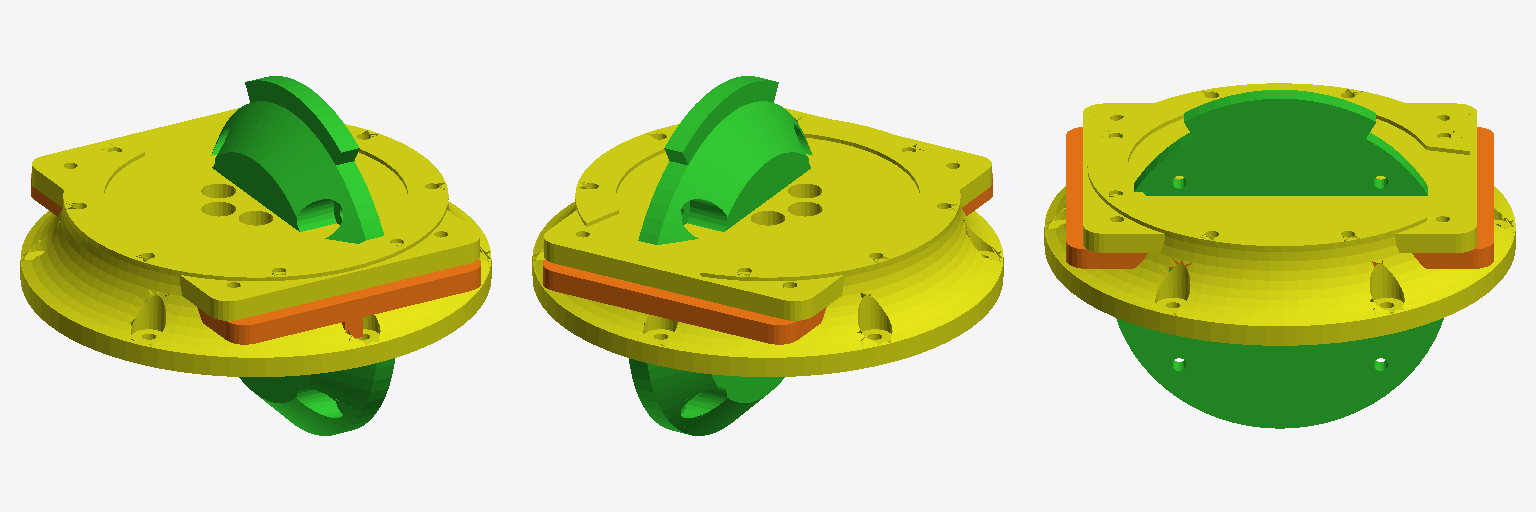
The robot description file, URDF, robot "my_robot":
<?xml version="1.0" ?>
<!-- =================================================================================== -->
<!-- |    This document was autogenerated by xacro from [local-path]/ros2_ws/install/my_robot_ros2_control/share/my_robot_ros2_control/description/urdf/my_robot.description.urdf.xacro | -->
<!-- |    EDITING THIS FILE BY HAND IS NOT RECOMMENDED                                 | -->
<!-- =================================================================================== -->
<robot name="my_robot">
  <!-- Materials -->
  <material name="robot_black">
    <color rgba="0.2 0.2 0.2 1"/>
  </material>
  <material name="robot_white">
    <color rgba="0.9 0.9 0.9 1"/>
  </material>
  <material name="robot_red">
    <color rgba="0.8 0.2 0.2 1"/>
  </material>
  <material name="robot_blue">
    <color rgba="0.2 0.4 0.8 1"/>
  </material>
  <material name="robot_green">
    <color rgba="0.2 0.8 0.2 1"/>
  </material>
  <material name="robot_yellow">
    <color rgba="0.9 0.9 0.1 1"/>
  </material>
  <material name="robot_orange">
    <color rgba="1.0 0.5 0.1 1"/>
  </material>
  <material name="robot_purple">
    <color rgba="0.6 0.2 0.8 1"/>
  </material>
  <!-- World Link -->
  <link name="world"/>
  <!-- Base Joint (connects world to robot) -->
  <joint name="base_joint" type="fixed">
    <origin rpy="0 0 0" xyz="0 0 0"/>
    <parent link="world"/>
    <child link="base_link"/>
  </joint>
  <link name="base_link">
    <collision name="mesh_base_link_collision">
      <origin rpy="0.0 0.0 0.0" xyz="0 0 0"/>
      <geometry>
        <mesh filename="package://my_robot_ros2_control/description/urdf/meshes/mesh_base_link.stl" scale="0.001 0.001 0.001"/>
        <!-- Add other geometry types as needed -->
      </geometry>
    </collision>
    <visual name="mesh_base_link">
      <material name="robot_black"/>
      <origin rpy="0.0 0.0 0.0" xyz="0 0 0"/>
      <geometry>
        <mesh filename="package://my_robot_ros2_control/description/urdf/meshes/mesh_base_link.stl" scale="0.001 0.001 0.001"/>
      </geometry>
    </visual>
  </link>
  <joint name="link1_motor_joint" type="fixed">
    <origin rpy="0 0 0" xyz="0 0 0.0263"/>
    <parent link="base_link"/>
    <child link="link1_motor"/>
  </joint>
  <link name="link1_motor">
    <collision name="mesh_link1_motor_collision">
      <origin rpy="0.0 0.0 0.0" xyz="0 0 -0.0263"/>
      <geometry>
        <mesh filename="package://my_robot_ros2_control/description/urdf/meshes/mesh_link1_motor.stl" scale="0.001 0.001 0.001"/>
        <!-- Add other geometry types as needed -->
      </geometry>
    </collision>
    <visual name="mesh_link1_motor">
      <material name="robot_red"/>
      <origin rpy="0.0 0.0 0.0" xyz="0 0 -0.0263"/>
      <geometry>
        <mesh filename="package://my_robot_ros2_control/description/urdf/meshes/mesh_link1_motor.stl" scale="0.001 0.001 0.001"/>
      </geometry>
    </visual>
  </link>
  <joint name="link1_1_joint" type="revolute">
    <limit effort="0.0" lower="-3.6651914291883334" upper="0.5235987755983333" velocity="2.408554367752333"/>
    <origin rpy="0 0 0" xyz="0 0 0.0507"/>
    <parent link="link1_motor"/>
    <child link="link1_1"/>
    <axis xyz="0 0 1"/>
  </joint>
  <link name="link1_1">
    <collision name="mesh_link1_1_collision">
      <origin rpy="0.0 0.0 0.0" xyz="0 0 -0.077"/>
      <geometry>
        <mesh filename="package://my_robot_ros2_control/description/urdf/meshes/mesh_link1_1.stl" scale="0.001 0.001 0.001"/>
        <!-- Add other geometry types as needed -->
      </geometry>
    </collision>
    <visual name="mesh_link1_1">
      <material name="robot_blue"/>
      <origin rpy="0.0 0.0 0.0" xyz="0 0 -0.077"/>
      <geometry>
        <mesh filename="package://my_robot_ros2_control/description/urdf/meshes/mesh_link1_1.stl" scale="0.001 0.001 0.001"/>
      </geometry>
    </visual>
  </link>
  <joint name="link1_2_joint" type="fixed">
    <origin rpy="0 0 0" xyz="0 0 0.015"/>
    <parent link="link1_1"/>
    <child link="link1_2"/>
  </joint>
  <link name="link1_2">
    <collision name="mesh_link1_2_collision">
      <origin rpy="0.0 0.0 0.0" xyz="0 0 -0.092"/>
      <geometry>
        <mesh filename="package://my_robot_ros2_control/description/urdf/meshes/mesh_link1_2.stl" scale="0.001 0.001 0.001"/>
        <!-- Add other geometry types as needed -->
      </geometry>
    </collision>
    <visual name="mesh_link1_2">
      <material name="robot_white"/>
      <origin rpy="0.0 0.0 0.0" xyz="0 0 -0.092"/>
      <geometry>
        <mesh filename="package://my_robot_ros2_control/description/urdf/meshes/mesh_link1_2.stl" scale="0.001 0.001 0.001"/>
      </geometry>
    </visual>
  </link>
  <joint name="link2_motor_joint" type="fixed">
    <origin rpy="0 0 0" xyz="0 0 0.059"/>
    <parent link="link1_2"/>
    <child link="link2_motor"/>
  </joint>
  <link name="link2_motor">
    <collision name="mesh_link2_motor_collision">
      <origin rpy="0.0 0.0 0.0" xyz="0 0 -0.151"/>
      <geometry>
        <mesh filename="package://my_robot_ros2_control/description/urdf/meshes/mesh_link2_motor.stl" scale="0.001 0.001 0.001"/>
        <!-- Add other geometry types as needed -->
      </geometry>
    </collision>
    <visual name="mesh_link2_motor">
      <material name="robot_red"/>
      <origin rpy="0.0 0.0 0.0" xyz="0 0 -0.151"/>
      <geometry>
        <mesh filename="package://my_robot_ros2_control/description/urdf/meshes/mesh_link2_motor.stl" scale="0.001 0.001 0.001"/>
      </geometry>
    </visual>
  </link>
  <joint name="link2_1_joint" type="revolute">
    <limit effort="0.0" lower="-1.570796326795" upper="1.570796326795" velocity="2.408554367752333"/>
    <origin rpy="0 0 0" xyz="0.009 0 0"/>
    <parent link="link2_motor"/>
    <child link="link2_1"/>
    <axis xyz="1 0 0"/>
  </joint>
  <link name="link2_1">
    <collision name="mesh_link2_1_collision">
      <origin rpy="0.0 0.0 0.0" xyz="-0.009 0 -0.151"/>
      <geometry>
        <mesh filename="package://my_robot_ros2_control/description/urdf/meshes/mesh_link2_1.stl" scale="0.001 0.001 0.001"/>
        <!-- Add other geometry types as needed -->
      </geometry>
    </collision>
    <visual name="mesh_link2_1">
      <material name="robot_green"/>
      <origin rpy="0.0 0.0 0.0" xyz="-0.009 0 -0.151"/>
      <geometry>
        <mesh filename="package://my_robot_ros2_control/description/urdf/meshes/mesh_link2_1.stl" scale="0.001 0.001 0.001"/>
      </geometry>
    </visual>
  </link>
  <joint name="link2_2_joint" type="fixed">
    <origin rpy="0 0 0" xyz="0.015 0 0"/>
    <parent link="link2_1"/>
    <child link="link2_2"/>
  </joint>
  <link name="link2_2">
    <collision name="mesh_link2_2_collision">
      <origin rpy="0.0 0.0 0.0" xyz="-0.024 0 -0.151"/>
      <geometry>
        <mesh filename="package://my_robot_ros2_control/description/urdf/meshes/mesh_link2_PLA.stl" scale="0.001 0.001 0.001"/>
        <!-- Add other geometry types as needed -->
      </geometry>
    </collision>
    <visual name="mesh_link2_2">
      <material name="robot_white"/>
      <origin rpy="0.0 0.0 0.0" xyz="-0.024 0 -0.151"/>
      <geometry>
        <mesh filename="package://my_robot_ros2_control/description/urdf/meshes/mesh_link2_PLA.stl" scale="0.001 0.001 0.001"/>
      </geometry>
    </visual>
  </link>
  <joint name="link2_3_joint" type="fixed">
    <origin rpy="0 0 0" xyz="0.075 0 0.13"/>
    <parent link="link2_2"/>
    <child link="link2_3"/>
  </joint>
  <link name="link2_3">
    <collision name="mesh_link2_3_collision">
      <origin rpy="0.0 0.0 0.0" xyz="-0.099 0 -0.281"/>
      <geometry>
        <mesh filename="package://my_robot_ros2_control/description/urdf/meshes/mesh_link2_7.stl" scale="0.001 0.001 0.001"/>
        <!-- Add other geometry types as needed -->
      </geometry>
    </collision>
    <visual name="mesh_link2_3">
      <material name="robot_yellow"/>
      <origin rpy="0.0 0.0 0.0" xyz="-0.099 0 -0.281"/>
      <geometry>
        <mesh filename="package://my_robot_ros2_control/description/urdf/meshes/mesh_link2_7.stl" scale="0.001 0.001 0.001"/>
      </geometry>
    </visual>
  </link>
  <joint name="link3_motor_joint" type="fixed">
    <origin rpy="0 0 0" xyz="0 0 0.021"/>
    <parent link="link2_3"/>
    <child link="link3_motor"/>
  </joint>
  <link name="link3_motor">
    <collision name="mesh_link3_motor_collision">
      <origin rpy="0.0 0.0 0.0" xyz="-0.099 0 -0.302"/>
      <geometry>
        <mesh filename="package://my_robot_ros2_control/description/urdf/meshes/mesh_link3_motor.stl" scale="0.001 0.001 0.001"/>
        <!-- Add other geometry types as needed -->
      </geometry>
    </collision>
    <visual name="mesh_link3_motor">
      <material name="robot_red"/>
      <origin rpy="0.0 0.0 0.0" xyz="-0.099 0 -0.302"/>
      <geometry>
        <mesh filename="package://my_robot_ros2_control/description/urdf/meshes/mesh_link3_motor.stl" scale="0.001 0.001 0.001"/>
      </geometry>
    </visual>
  </link>
  <joint name="link3_1_joint" type="revolute">
    <limit effort="0.0" lower="-4.0142572795872224" upper="1.0471975511966667" velocity="15.498523757710668"/>
    <origin rpy="0 0 0" xyz="0 0 0.03905"/>
    <parent link="link3_motor"/>
    <child link="link3_1"/>
    <axis xyz="0 0 1"/>
  </joint>
  <link name="link3_1">
    <collision name="mesh_link3_1_collision">
      <origin rpy="0.0 0.0 0.0" xyz="-0.099 0 -0.34105"/>
      <geometry>
        <mesh filename="package://my_robot_ros2_control/description/urdf/meshes/mesh_link3_1.stl" scale="0.001 0.001 0.001"/>
        <!-- Add other geometry types as needed -->
      </geometry>
    </collision>
    <visual name="mesh_link3_1">
      <material name="robot_orange"/>
      <origin rpy="0.0 0.0 0.0" xyz="-0.099 0 -0.34105"/>
      <geometry>
        <mesh filename="package://my_robot_ros2_control/description/urdf/meshes/mesh_link3_1.stl" scale="0.001 0.001 0.001"/>
      </geometry>
    </visual>
  </link>
  <joint name="link3_2_joint" type="fixed">
    <origin rpy="0 0 0" xyz="0 0 0.015"/>
    <parent link="link3_1"/>
    <child link="link3_2"/>
  </joint>
  <link name="link3_2">
    <collision name="mesh_link3_2_collision">
      <origin rpy="0.0 0.0 0.0" xyz="-0.099 0 -0.35605"/>
      <geometry>
        <mesh filename="package://my_robot_ros2_control/description/urdf/meshes/mesh_link3_2.stl" scale="0.001 0.001 0.001"/>
        <!-- Add other geometry types as needed -->
      </geometry>
    </collision>
    <visual name="mesh_link3_2">
      <material name="robot_purple"/>
      <origin rpy="0.0 0.0 0.0" xyz="-0.099 0 -0.35605"/>
      <geometry>
        <mesh filename="package://my_robot_ros2_control/description/urdf/meshes/mesh_link3_2.stl" scale="0.001 0.001 0.001"/>
      </geometry>
    </visual>
  </link>
  <joint name="link4_motor_joint" type="fixed">
    <origin rpy="0 0 0" xyz="0.004 0 0.0546"/>
    <parent link="link3_2"/>
    <child link="link4_motor"/>
  </joint>
  <link name="link4_motor">
    <collision name="mesh_link4_motor_collision">
      <origin rpy="0.0 0.0 0.0" xyz="-0.103 0 -0.41065"/>
      <geometry>
        <mesh filename="package://my_robot_ros2_control/description/urdf/meshes/mesh_link4_motor.stl" scale="0.001 0.001 0.001"/>
        <!-- Add other geometry types as needed -->
      </geometry>
    </collision>
    <visual name="mesh_link4_motor">
      <material name="robot_red"/>
      <origin rpy="0.0 0.0 0.0" xyz="-0.103 0 -0.41065"/>
      <geometry>
        <mesh filename="package://my_robot_ros2_control/description/urdf/meshes/mesh_link4_motor.stl" scale="0.001 0.001 0.001"/>
      </geometry>
    </visual>
  </link>
  <joint name="link4_1_joint" type="revolute">
    <limit effort="0.0" lower="-1.6580627893947222" upper="1.6580627893947222" velocity="15.498523757710668"/>
    <origin rpy="0 0 0" xyz="-0.0065 0 0"/>
    <parent link="link4_motor"/>
    <child link="link4_1"/>
    <axis xyz="-1 0 0"/>
  </joint>
  <link name="link4_1">
    <collision name="mesh_link4_1_collision">
      <origin rpy="0.0 0.0 0.0" xyz="-0.0965 0 -0.41065"/>
      <geometry>
        <mesh filename="package://my_robot_ros2_control/description/urdf/meshes/mesh_link4_1.stl" scale="0.001 0.001 0.001"/>
        <!-- Add other geometry types as needed -->
      </geometry>
    </collision>
    <visual name="mesh_link4_1">
      <material name="robot_blue"/>
      <origin rpy="0.0 0.0 0.0" xyz="-0.0965 0 -0.41065"/>
      <geometry>
        <mesh filename="package://my_robot_ros2_control/description/urdf/meshes/mesh_link4_1.stl" scale="0.001 0.001 0.001"/>
      </geometry>
    </visual>
  </link>
  <joint name="link4_2_joint" type="fixed">
    <origin rpy="0 0 0" xyz="-0.015 0 0"/>
    <parent link="link4_1"/>
    <child link="link4_2"/>
  </joint>
  <link name="link4_2">
    <collision name="mesh_link4_2_collision">
      <origin rpy="0.0 0.0 0.0" xyz="-0.0815 0 -0.41065"/>
      <geometry>
        <mesh filename="package://my_robot_ros2_control/description/urdf/meshes/mesh_link4_PLA.stl" scale="0.001 0.001 0.001"/>
        <!-- Add other geometry types as needed -->
      </geometry>
    </collision>
    <visual name="mesh_link4_2">
      <material name="robot_white"/>
      <origin rpy="0.0 0.0 0.0" xyz="-0.0815 0 -0.41065"/>
      <geometry>
        <mesh filename="package://my_robot_ros2_control/description/urdf/meshes/mesh_link4_PLA.stl" scale="0.001 0.001 0.001"/>
      </geometry>
    </visual>
  </link>
  <joint name="link4_3_joint" type="fixed">
    <origin rpy="0 0 0" xyz="-0.075 0 0.1"/>
    <parent link="link4_2"/>
    <child link="link4_3"/>
  </joint>
  <link name="link4_3">
    <collision name="mesh_link4_3_collision">
      <origin rpy="0.0 0.0 0.0" xyz="-0.0065 0 -0.51065"/>
      <geometry>
        <mesh filename="package://my_robot_ros2_control/description/urdf/meshes/mesh_link4_7.stl" scale="0.001 0.001 0.001"/>
        <!-- Add other geometry types as needed -->
      </geometry>
    </collision>
    <visual name="mesh_link4_3">
      <material name="robot_green"/>
      <origin rpy="0.0 0.0 0.0" xyz="-0.0065 0 -0.51065"/>
      <geometry>
        <mesh filename="package://my_robot_ros2_control/description/urdf/meshes/mesh_link4_7.stl" scale="0.001 0.001 0.001"/>
      </geometry>
    </visual>
  </link>
  <joint name="link5_motor_joint" type="fixed">
    <origin rpy="0 0 0" xyz="0 0 0.02"/>
    <parent link="link4_3"/>
    <child link="link5_motor"/>
  </joint>
  <link name="link5_motor">
    <collision name="mesh_link5_motor_collision">
      <origin rpy="0.0 0.0 0.0" xyz="-0.0065 0 -0.53065"/>
      <geometry>
        <mesh filename="package://my_robot_ros2_control/description/urdf/meshes/mesh_link5_motor.stl" scale="0.001 0.001 0.001"/>
        <!-- Add other geometry types as needed -->
      </geometry>
    </collision>
    <visual name="mesh_link5_motor">
      <material name="robot_red"/>
      <origin rpy="0.0 0.0 0.0" xyz="-0.0065 0 -0.53065"/>
      <geometry>
        <mesh filename="package://my_robot_ros2_control/description/urdf/meshes/mesh_link5_motor.stl" scale="0.001 0.001 0.001"/>
      </geometry>
    </visual>
  </link>
  <joint name="link5_1_joint" type="revolute">
    <limit effort="0.0" lower="-3.4906585039888887" upper="2.0943951023933334" velocity="24.399702942882335"/>
    <origin rpy="0 0 0" xyz="0 0 0.029"/>
    <parent link="link5_motor"/>
    <child link="link5_1"/>
    <axis xyz="0 0 1"/>
  </joint>
  <link name="link5_1">
    <collision name="mesh_link5_1_collision">
      <origin rpy="0.0 0.0 0.0" xyz="-0.0065 0 -0.55965"/>
      <geometry>
        <mesh filename="package://my_robot_ros2_control/description/urdf/meshes/mesh_link5_1.stl" scale="0.001 0.001 0.001"/>
        <!-- Add other geometry types as needed -->
      </geometry>
    </collision>
    <visual name="mesh_link5_1">
      <material name="robot_yellow"/>
      <origin rpy="0.0 0.0 0.0" xyz="-0.0065 0 -0.55965"/>
      <geometry>
        <mesh filename="package://my_robot_ros2_control/description/urdf/meshes/mesh_link5_1.stl" scale="0.001 0.001 0.001"/>
      </geometry>
    </visual>
  </link>
  <joint name="link5_2_joint" type="fixed">
    <origin rpy="0 0 0" xyz="0 0 0.02"/>
    <parent link="link5_1"/>
    <child link="link5_2"/>
  </joint>
  <link name="link5_2">
    <collision name="mesh_link5_2_collision">
      <origin rpy="0.0 0.0 0.0" xyz="-0.0065 0 -0.57965"/>
      <geometry>
        <mesh filename="package://my_robot_ros2_control/description/urdf/meshes/mesh_link5_2.stl" scale="0.001 0.001 0.001"/>
        <!-- Add other geometry types as needed -->
      </geometry>
    </collision>
    <visual name="mesh_link5_2">
      <material name="robot_orange"/>
      <origin rpy="0.0 0.0 0.0" xyz="-0.0065 0 -0.57965"/>
      <geometry>
        <mesh filename="package://my_robot_ros2_control/description/urdf/meshes/mesh_link5_2.stl" scale="0.001 0.001 0.001"/>
      </geometry>
    </visual>
  </link>
  <joint name="link6_motor_joint" type="fixed">
    <origin rpy="0 0 0" xyz="0.0035 0 0.04950"/>
    <parent link="link5_2"/>
    <child link="link6_motor"/>
  </joint>
  <link name="link6_motor">
    <collision name="mesh_link6_motor_collision">
      <origin rpy="0.0 0.0 0.0" xyz="-0.01 0 -0.62915"/>
      <geometry>
        <mesh filename="package://my_robot_ros2_control/description/urdf/meshes/mesh_link6_motor.stl" scale="0.001 0.001 0.001"/>
        <!-- Add other geometry types as needed -->
      </geometry>
    </collision>
    <visual name="mesh_link6_motor">
      <material name="robot_red"/>
      <origin rpy="0.0 0.0 0.0" xyz="-0.01 0 -0.62915"/>
      <geometry>
        <mesh filename="package://my_robot_ros2_control/description/urdf/meshes/mesh_link6_motor.stl" scale="0.001 0.001 0.001"/>
      </geometry>
    </visual>
  </link>
  <joint name="link6_1_joint" type="revolute">
    <limit effort="0.0" lower="-1.6580627893947222" upper="1.6580627893947222" velocity="24.399702942882335"/>
    <origin rpy="0 0 0" xyz="0.002 0 0"/>
    <parent link="link6_motor"/>
    <child link="link6_1"/>
    <axis xyz="1 0 0"/>
  </joint>
  <link name="link6_1">
    <collision name="mesh_link6_1_collision">
      <origin rpy="0.0 0.0 0.0" xyz="-0.012 0 -0.62915"/>
      <geometry>
        <mesh filename="package://my_robot_ros2_control/description/urdf/meshes/mesh_link6_1.stl" scale="0.001 0.001 0.001"/>
        <!-- Add other geometry types as needed -->
      </geometry>
    </collision>
    <visual name="mesh_link6_1">
      <material name="robot_purple"/>
      <origin rpy="0.0 0.0 0.0" xyz="-0.012 0 -0.62915"/>
      <geometry>
        <mesh filename="package://my_robot_ros2_control/description/urdf/meshes/mesh_link6_1.stl" scale="0.001 0.001 0.001"/>
      </geometry>
    </visual>
  </link>
</robot>

--- Render facts (derived) ---
The picture shows the robot from 3 angles, left to right: view 1: azimuth 30°, elevation 25°; view 2: azimuth 150°, elevation 25°; view 3: azimuth 270°, elevation 25°; orthographic projection.
Robot: my_robot — 21 links, 20 joints (6 revolute, 14 fixed); root link world; default pose: every joint at zero.
Visible links, largest first — view 1: link2_3, link5_1, link2_1, link3_1; view 2: link2_3, link5_1, link2_1, link3_1; view 3: link2_3, link2_1, link5_1, link3_1.
Boxes of the visible links, box(x1,y1,x2,y2) form: link2_3: box(20, 124, 491, 376); link5_1: box(32, 108, 479, 320); link2_1: box(211, 76, 394, 435); link3_1: box(31, 173, 480, 344); link2_3: box(532, 115, 1003, 376); link5_1: box(544, 108, 991, 320); link2_1: box(629, 76, 812, 435); link3_1: box(543, 173, 992, 344); link2_3: box(1044, 83, 1515, 345); link2_1: box(1116, 90, 1443, 428); link5_1: box(1083, 103, 1476, 252); link3_1: box(1066, 127, 1493, 268).
Bounding box of the posed robot: 0.0001 × 0.0001 × 0.0001 m (x, y, z).
Meshes: 20 distinct files referenced, 4 mesh visuals loaded (4 binary STL); not drawn: 16 (reference not matched to a file when rendering).